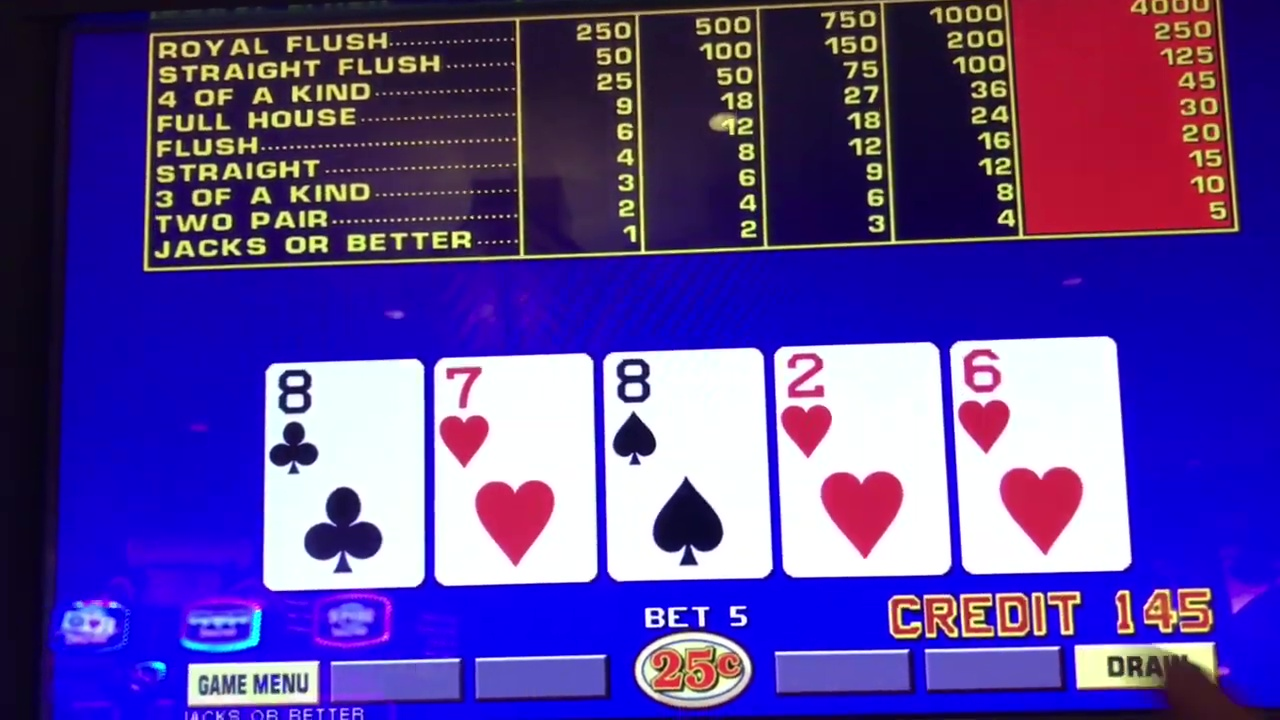C8: (264, 365, 422, 485)
H2: (784, 349, 939, 473)
H6: (959, 342, 1121, 465)
H7: (440, 360, 591, 480)
S8: (608, 358, 765, 478)
